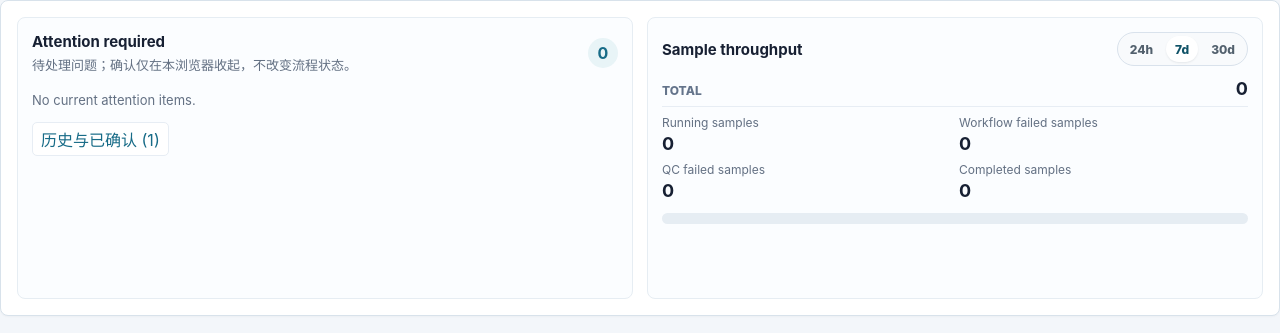
Test: keeps informational history collapsed and lets the user open it
expect the text "Reanalysis recorded" is not shown: met
Click the button "历史与已确认 (1)".
click(100, 139)  # box [32,122,169,156]
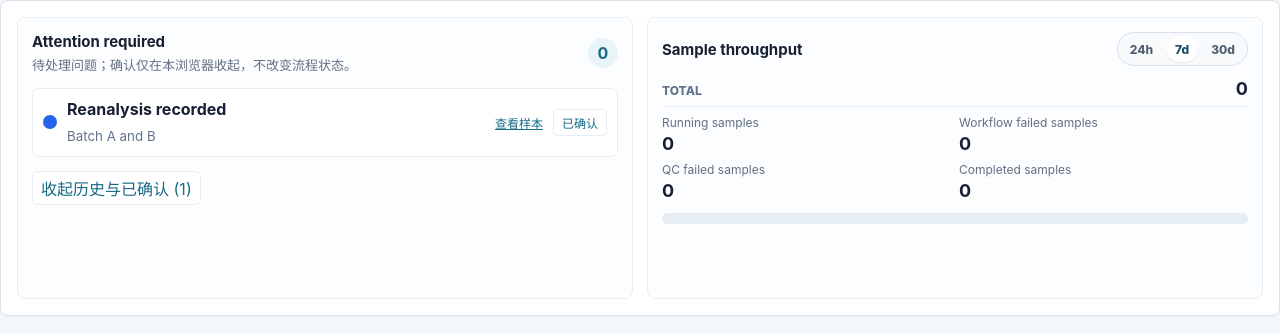
expect the text "Reanalysis recorded" is shown: met, box [67,99,226,119]
